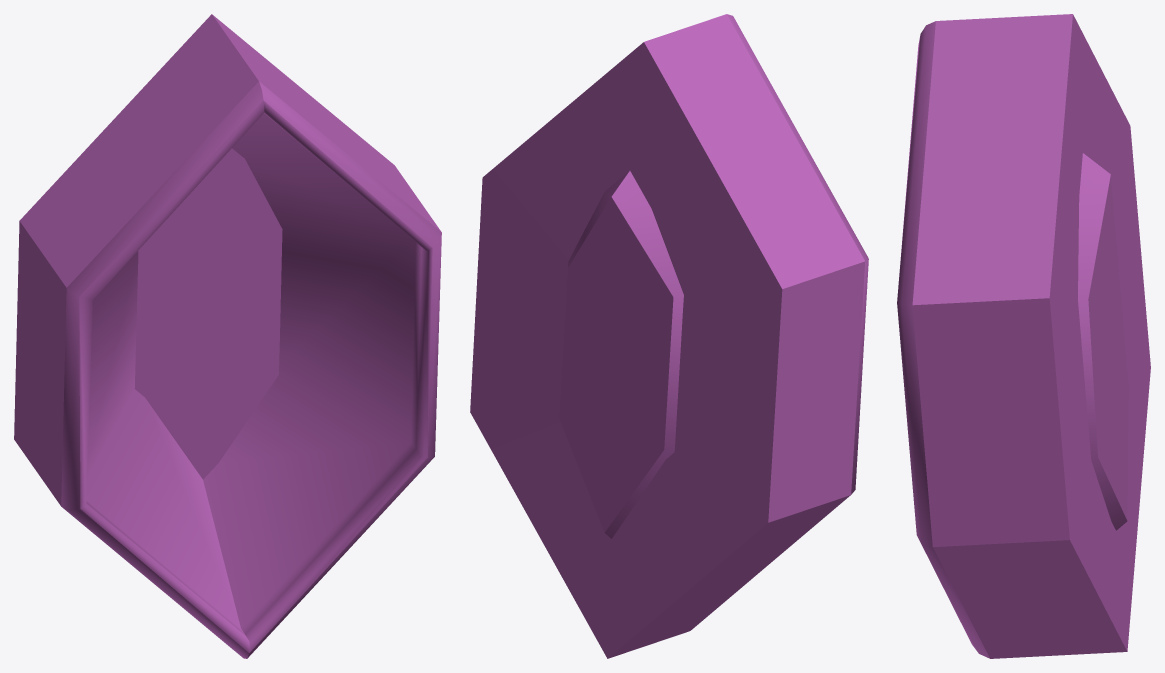
File: TL1_8shapes_Hex_Classic_Metal.001 3.glb
3 renders of one model, left to right at view 1: azimuth 30°, elevation 25°; view 2: azimuth 150°, elevation 25°; view 3: azimuth 270°, elevation 25°, orthographic. The views are drawn at different scales.
Visible parts, largest first — view 1: TL1_8shapes_Hex_Classic_Metal.001; view 2: TL1_8shapes_Hex_Classic_Metal.001; view 3: TL1_8shapes_Hex_Classic_Metal.001.
Boxes of the visible parts, box(x1,y1,x2,y2) form: TL1_8shapes_Hex_Classic_Metal.001: box(14, 14, 441, 658); TL1_8shapes_Hex_Classic_Metal.001: box(470, 14, 868, 658); TL1_8shapes_Hex_Classic_Metal.001: box(897, 14, 1150, 658).
Bounding box in the file's own units: 0.5028 × 0.8251 × 0.2927.
